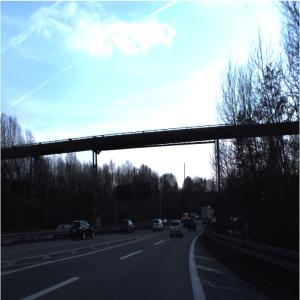give way: (210, 209, 216, 219)
